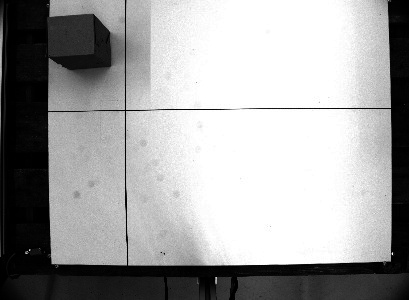b5: (44, 11, 113, 70)
